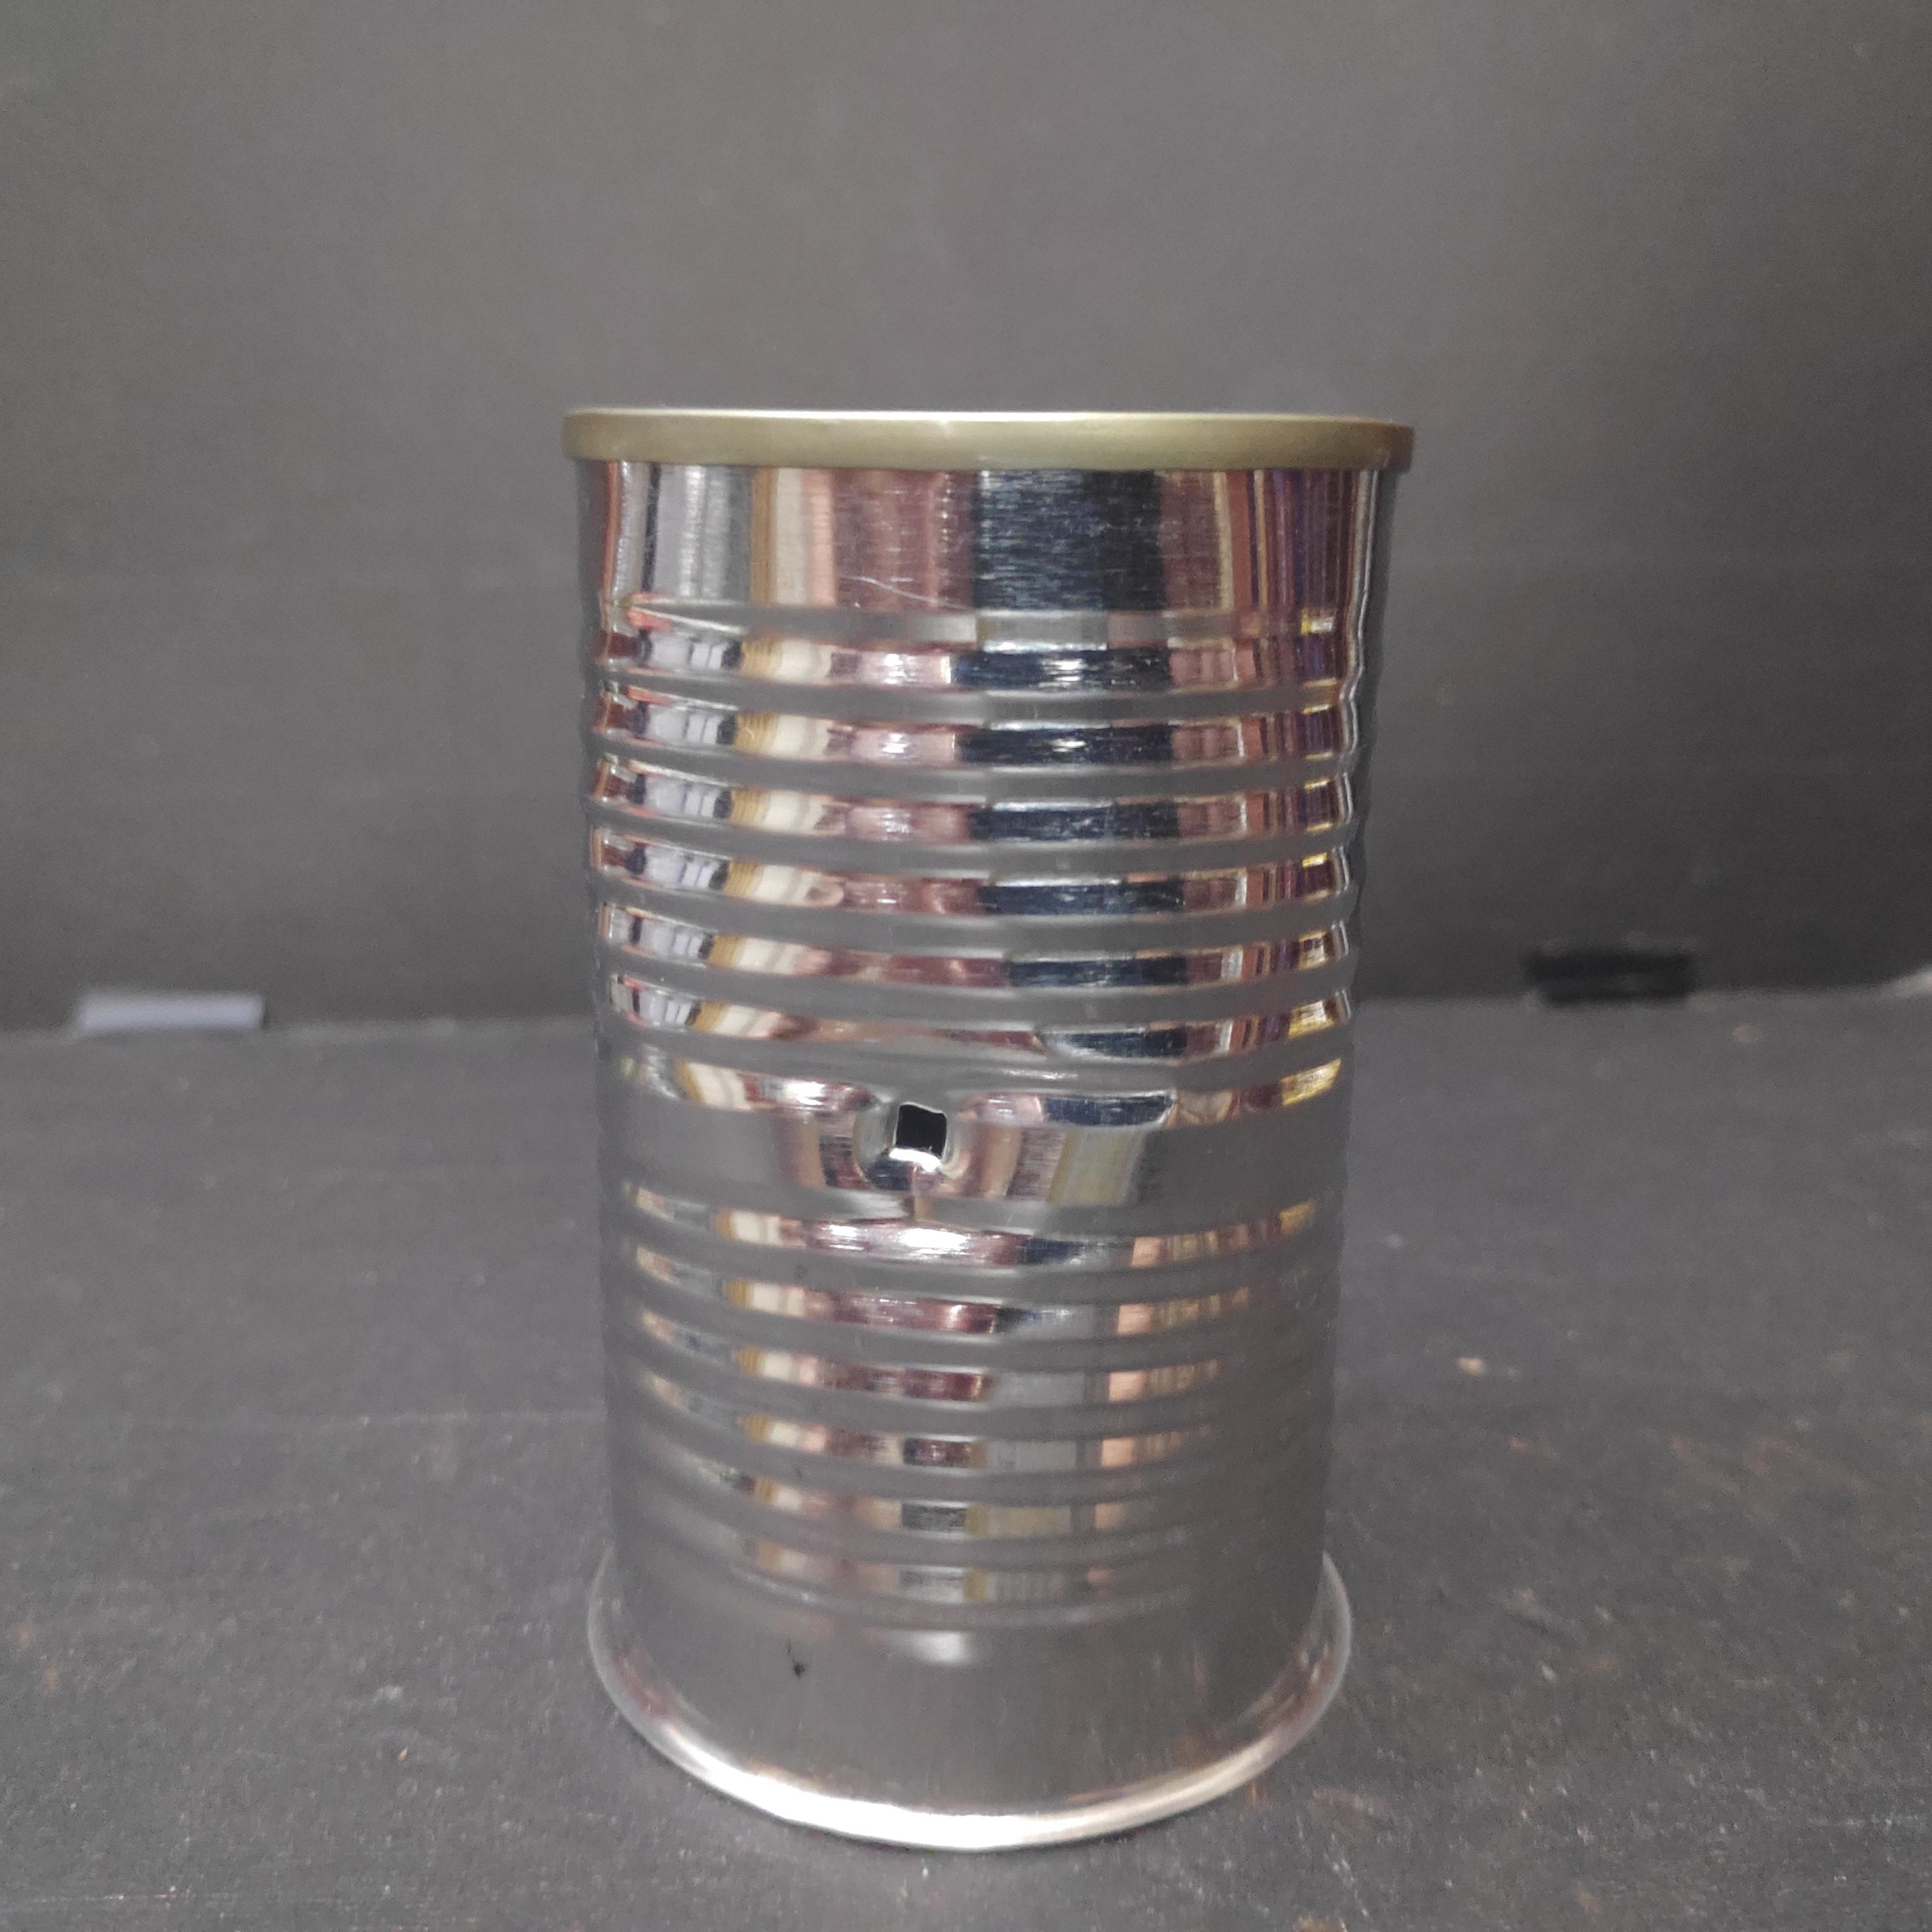Critical Defect: (547, 384, 1421, 1859)
